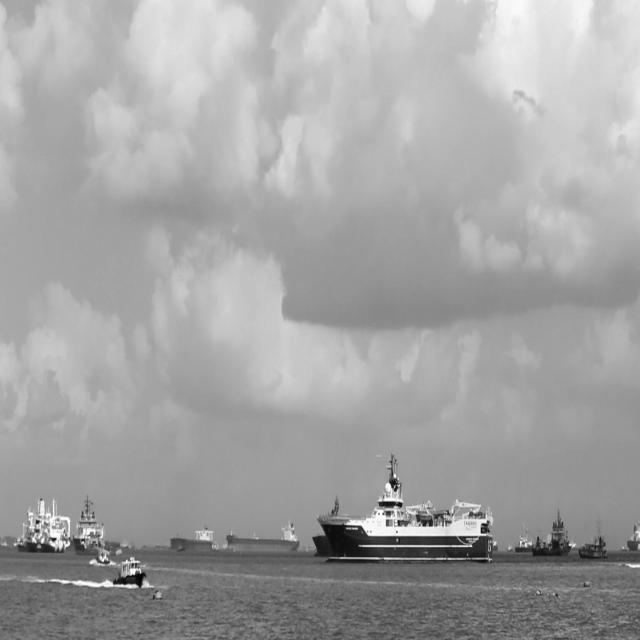buoy: (150, 584, 168, 604), (580, 572, 596, 590), (532, 588, 548, 602)
ship: (316, 448, 504, 573), (15, 490, 74, 556), (76, 492, 127, 560), (225, 518, 305, 560), (528, 506, 578, 564), (162, 521, 220, 556), (572, 519, 612, 566), (112, 549, 150, 588), (514, 520, 544, 560), (87, 543, 113, 571)
